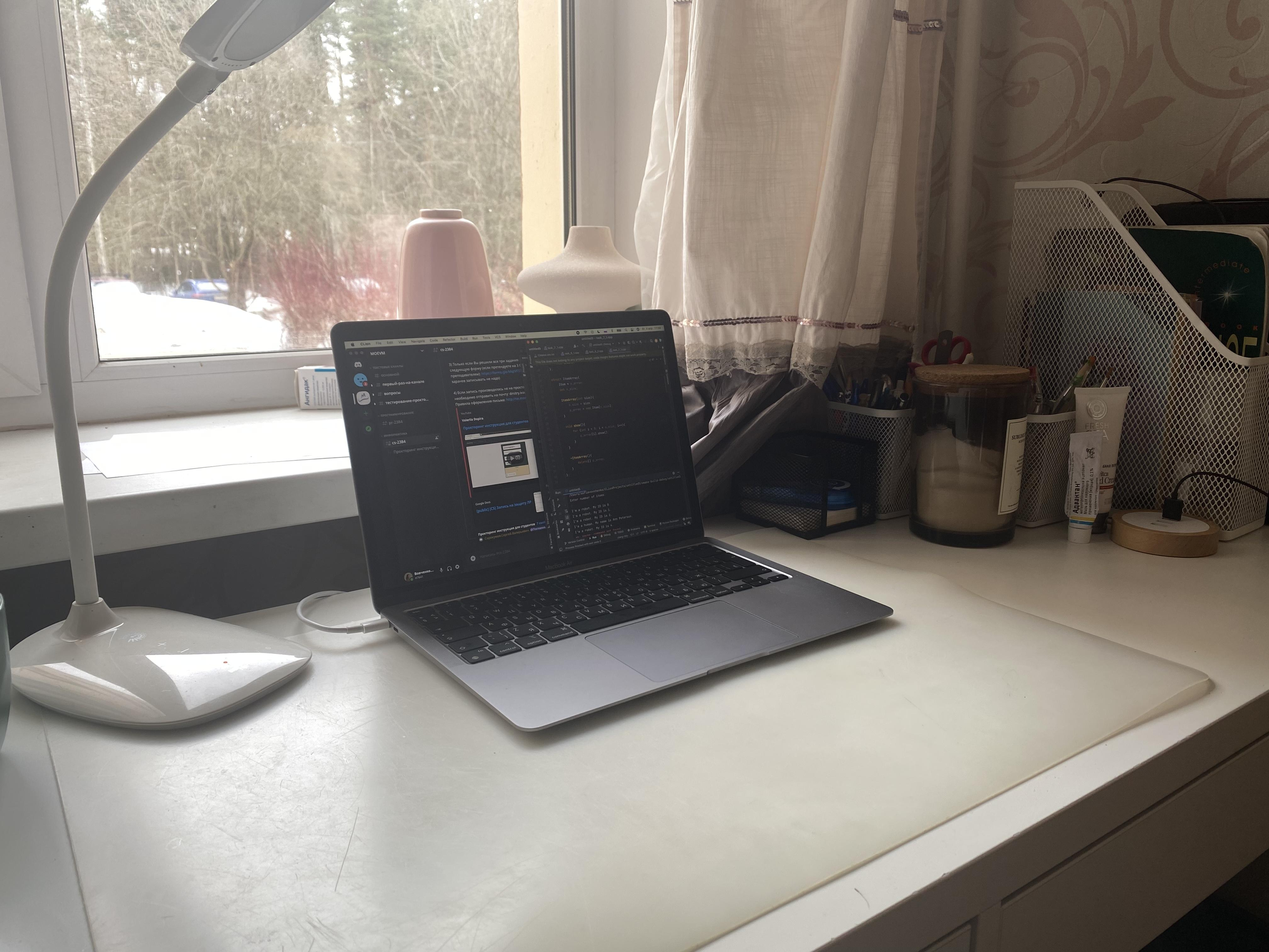monitor: (330, 309, 707, 614)
